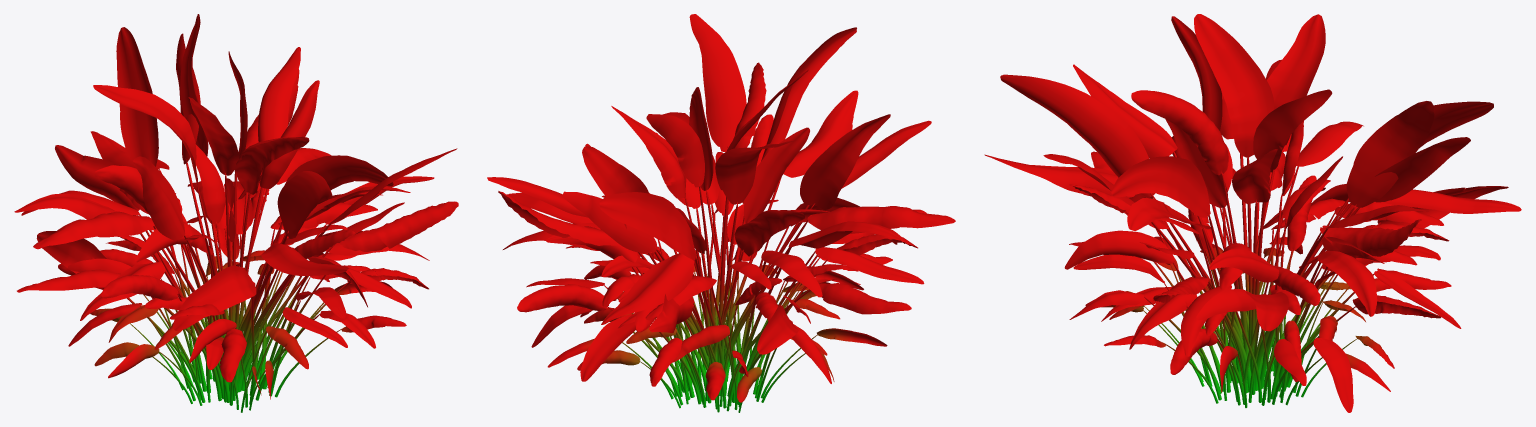
The model's file is Var4_LOD0.fbx.
3 views of the same model, side by side, from view 1: azimuth 30°, elevation 25°; view 2: azimuth 150°, elevation 25°; view 3: azimuth 270°, elevation 25° (orthographic). The views are drawn at different scales.
Parts seen in each view (by area): view 1: _fwm0_Var4_LOD0; view 2: _fwm0_Var4_LOD0; view 3: _fwm0_Var4_LOD0.
Part boxes in pixels (box(x1,y1,x2,y2)): _fwm0_Var4_LOD0: box(14, 14, 458, 412); _fwm0_Var4_LOD0: box(487, 14, 955, 412); _fwm0_Var4_LOD0: box(984, 14, 1521, 412).
Size of the model in its own units: 213 by 156 by 223.
